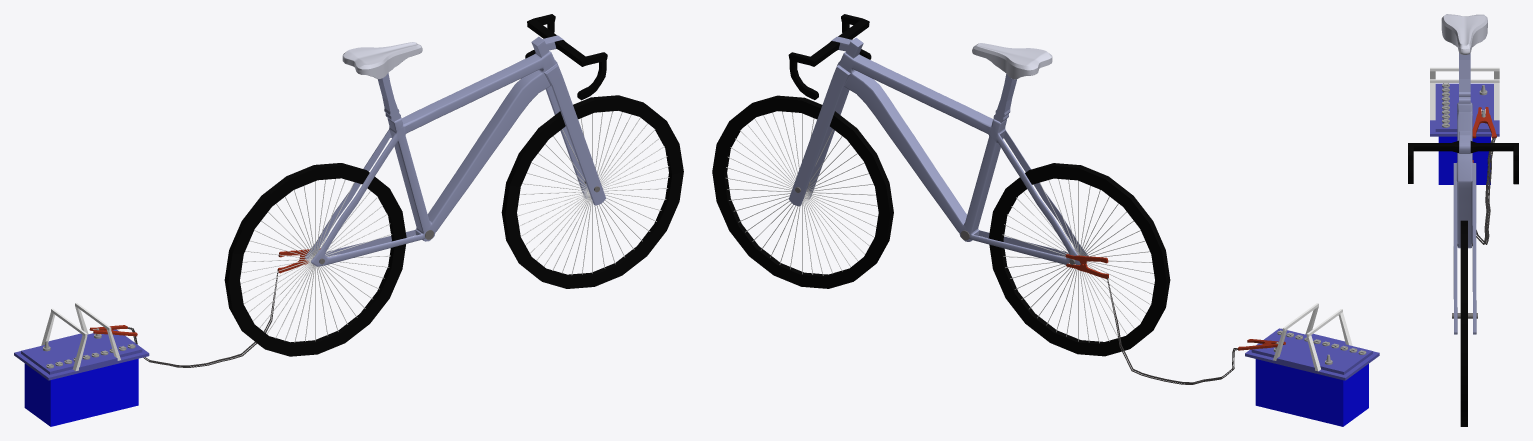
File: BikeBattery.fbx
3 renders of one model, left to right at view 1: azimuth 30°, elevation 25°; view 2: azimuth 150°, elevation 25°; view 3: azimuth 270°, elevation 25°, orthographic.
Parts seen in each view (by area): view 1: pCylinder2 (×2), polySurface1, pCube2, bikeSeat, polySurface2; view 2: pCylinder2 (×2), polySurface1, pCube2, bikeSeat, polySurface3, wires; view 3: polySurface1, pCube2, pCylinder2, bikeSeat, pCube5, polySurface2, polySurface3, wires, pCube30, pCube15, pCube14.
Boxes of the visible parts, bbox=[...] form: pCylinder2 (×2): bbox=[224, 95, 683, 356]; polySurface1: bbox=[305, 35, 605, 266]; pCube2: bbox=[14, 329, 149, 426]; bikeSeat: bbox=[342, 42, 422, 79]; polySurface2: bbox=[554, 40, 607, 100]; pCylinder2 (×2): bbox=[712, 95, 1170, 356]; polySurface1: bbox=[789, 36, 1088, 264]; pCube2: bbox=[1245, 328, 1379, 426]; bikeSeat: bbox=[972, 43, 1052, 79]; polySurface3: bbox=[788, 41, 839, 99]; wires: bbox=[1107, 276, 1237, 384]; polySurface1: bbox=[1453, 53, 1476, 334]; pCube2: bbox=[1430, 83, 1499, 184]; pCylinder2: bbox=[1460, 220, 1467, 426]; bikeSeat: bbox=[1441, 14, 1487, 54]; pCube5: bbox=[1430, 79, 1499, 120]; polySurface2: bbox=[1408, 140, 1458, 183]; polySurface3: bbox=[1470, 141, 1518, 184]; wires: bbox=[1476, 137, 1495, 244]; pCube30: bbox=[1430, 67, 1499, 79]; pCube15: bbox=[1472, 107, 1485, 138]; pCube14: bbox=[1483, 107, 1496, 138].
Size of the model in its own units: 16.5 by 6.9 by 2.42.
